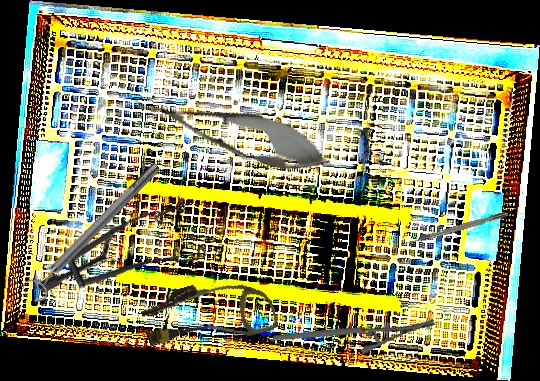Cannula: (137, 266, 280, 362)
Fixation Ring: (18, 155, 169, 307)
Hook Surgical: (401, 210, 509, 248)
Micro Scissor: (125, 80, 338, 184)
Needle Holder: (272, 282, 436, 378)
Speculum: (34, 162, 226, 360)
